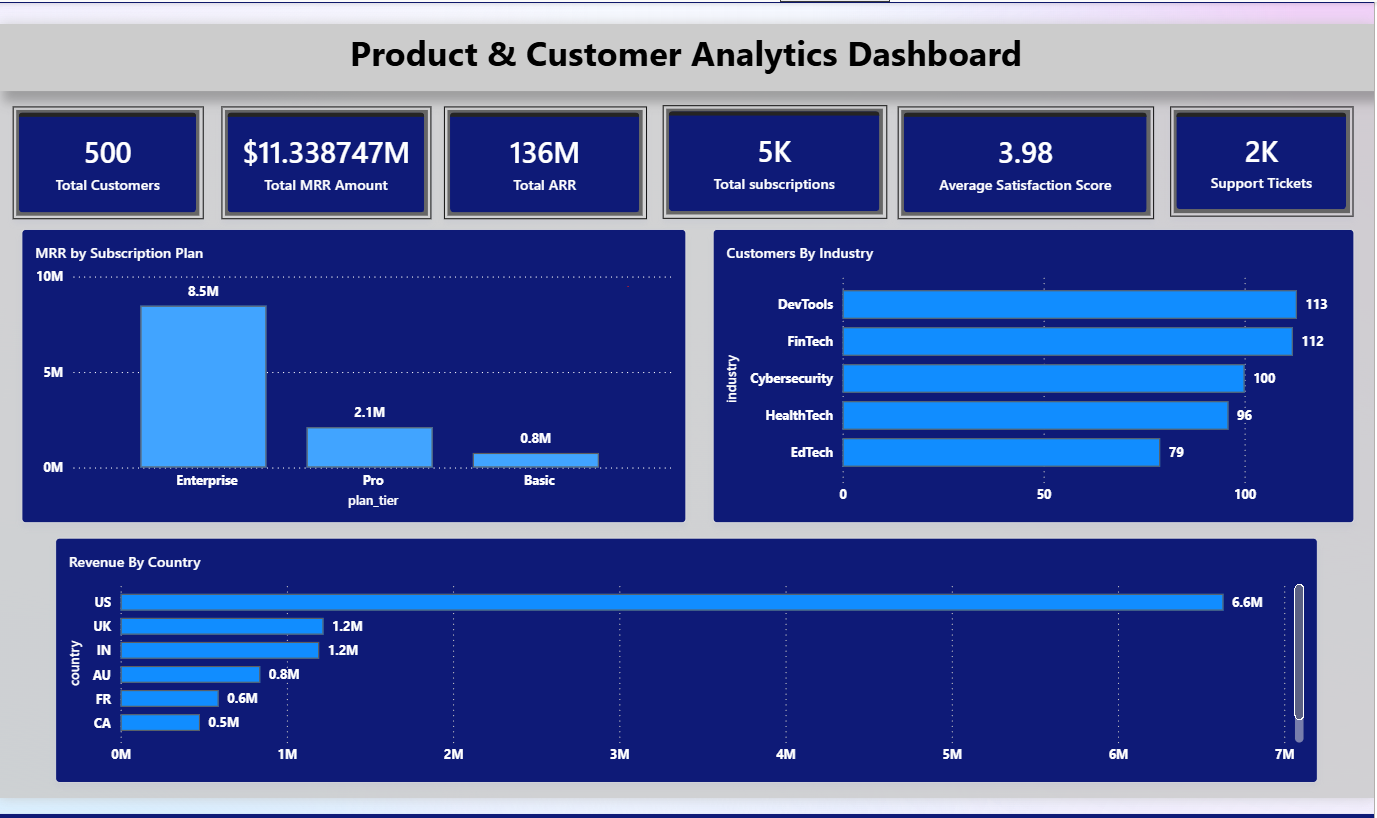

The page's visual inventory and layout, read from the dashboard file:
{"tool":"powerbi","page":{"name":"Executive Dashboard","canvas":[1280,720],"ordinal":0},"visuals":[{"type":"cardVisual","title":"Total Customers","fields":{"Data":["Count(accounts.account_id)"]},"box":[12.5,76.2,177.5,105],"z":0},{"type":"cardVisual","fields":{"Data":["Sum(subscriptions.mrr_amount)"]},"box":[207.5,76.2,195,105],"z":1000},{"type":"cardVisual","fields":{"Data":["Sum(subscriptions.arr_amount)"]},"box":[413.8,76.2,188.8,105],"z":2000},{"type":"cardVisual","fields":{"Data":["Count(subscriptions.subscription_id)"]},"box":[617.1,75.7,208.6,105.7],"z":3000},{"type":"cardVisual","fields":{"Data":["Avg(support_tickets.satisfaction_score)"]},"box":[836.2,76.2,238.8,105],"z":4000},{"type":"cardVisual","fields":{"Data":["CountNonNull(support_tickets.ticket_id)"]},"box":[1090,76.2,170,102.5],"z":5000},{"type":"clusteredColumnChart","title":"MRR by Subscription Plan","fields":{"Category":["subscriptions.plan_tier"],"Y":["Sum(subscriptions.mrr_amount)"]},"box":[20.9,190.7,618.6,273.3],"z":6000},{"type":"barChart","title":"Customers By Industry","fields":{"Category":["accounts.industry"],"Y":["CountNonNull(accounts.account_id)"]},"box":[664,190.7,596.5,273.3],"z":7000},{"type":"barChart","title":"Revenue By Country","fields":{"Category":["accounts.country"],"Y":["Sum(subscriptions.mrr_amount)"]},"box":[52.3,477.9,1174.4,227.9],"z":8000},{"type":"textbox","box":[0,0,1280,62.5],"z":9000}]}

Visuals, with their boxes in screenshot pixels (x1, y1, x2, y2):
"Total Customers" cardVisual: 20, 110, 209, 221
cardVisual - Sum(subscriptions.mrr_amount): 227, 110, 434, 221
cardVisual - Sum(subscriptions.arr_amount): 446, 110, 646, 221
cardVisual - Count(subscriptions.subscription_id): 662, 109, 883, 221
cardVisual - Avg(support_tickets.satisfaction_score): 894, 110, 1148, 221
cardVisual - CountNonNull(support_tickets.ticket_id): 1164, 110, 1344, 218
"MRR by Subscription Plan" clusteredColumnChart: 29, 231, 686, 521
"Customers By Industry" barChart: 712, 231, 1344, 521
"Revenue By Country" barChart: 63, 536, 1309, 777
textbox: 7, 29, 1365, 95
